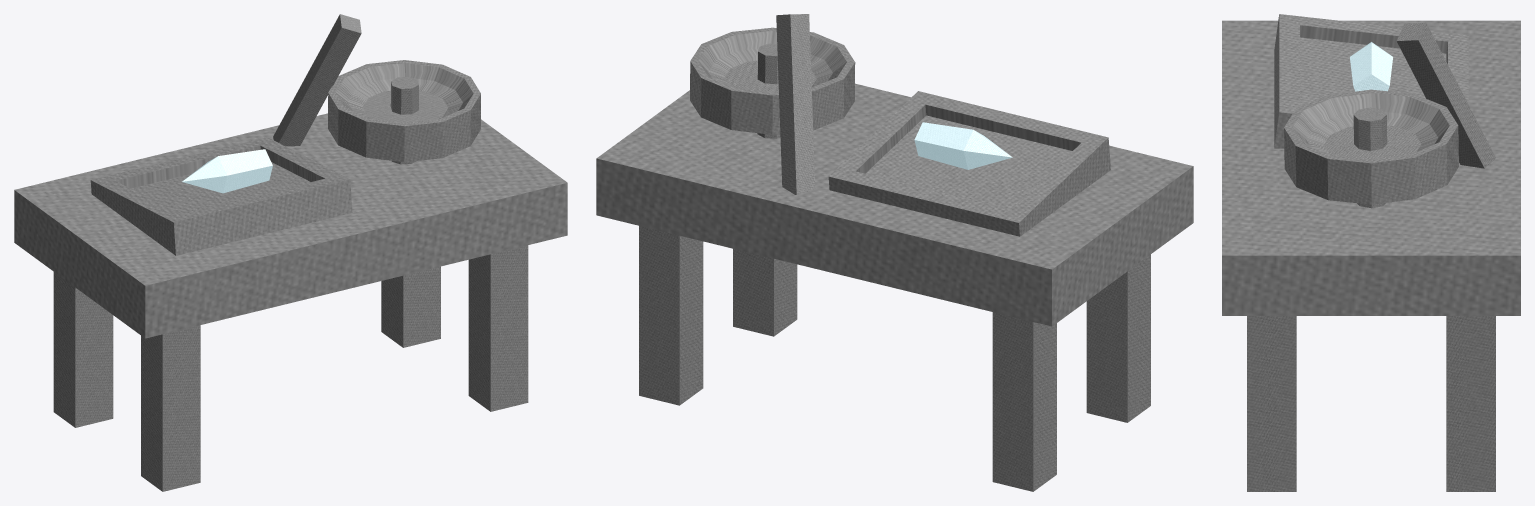
The model's file is rune-engraver.glb.
3 views of the same model, side by side, from view 1: azimuth 30°, elevation 25°; view 2: azimuth 150°, elevation 25°; view 3: azimuth 270°, elevation 25° (orthographic). The views are drawn at different scales.
Visible parts, largest first — view 1: bench, tablet, engraving-wheel, leg-0.52-0.24, leg--0.52-0.24, leg--0.52--0.24, leg-0.52--0.24, stylus-arm, focus-chip, wheel-axle; view 2: bench, tablet, engraving-wheel, leg--0.52--0.24, leg-0.52--0.24, leg--0.52-0.24, stylus-arm, leg-0.52-0.24, focus-chip, wheel-axle; view 3: bench, engraving-wheel, tablet, leg-0.52--0.24, leg-0.52-0.24, stylus-arm, focus-chip, wheel-axle.
Part boxes in pixels (<box>): bench: <box>14,113,567,338</box>; tablet: <box>90,137,352,255</box>; engraving-wheel: <box>328,60,480,162</box>; leg-0.52-0.24: <box>468,245,528,411</box>; leg--0.52-0.24: <box>141,325,200,491</box>; leg--0.52--0.24: <box>53,272,113,427</box>; leg-0.52--0.24: <box>381,266,440,347</box>; stylus-arm: <box>273,14,361,146</box>; focus-chip: <box>182,149,272,193</box>; wheel-axle: <box>390,77,418,164</box>; bench: <box>596,83,1193,326</box>; tablet: <box>828,91,1110,236</box>; engraving-wheel: <box>690,27,855,134</box>; leg--0.52--0.24: <box>992,312,1056,491</box>; leg-0.52--0.24: <box>639,226,703,405</box>; leg--0.52-0.24: <box>1086,254,1150,422</box>; stylus-arm: <box>776,14,815,194</box>; leg-0.52-0.24: <box>733,248,797,336</box>; focus-chip: <box>914,122,1012,169</box>; wheel-axle: <box>757,43,780,138</box>; bench: <box>1222,20,1520,315</box>; engraving-wheel: <box>1284,89,1458,204</box>; tablet: <box>1274,14,1468,148</box>; leg-0.52--0.24: <box>1446,316,1495,491</box>; leg-0.52-0.24: <box>1247,316,1296,491</box>; stylus-arm: <box>1396,22,1495,168</box>; focus-chip: <box>1350,42,1392,91</box>; wheel-axle: <box>1353,107,1387,208</box>.
Bounding box in the file's own units: 1.34 × 1.08 × 0.72.
7 materials, 7 textured.
